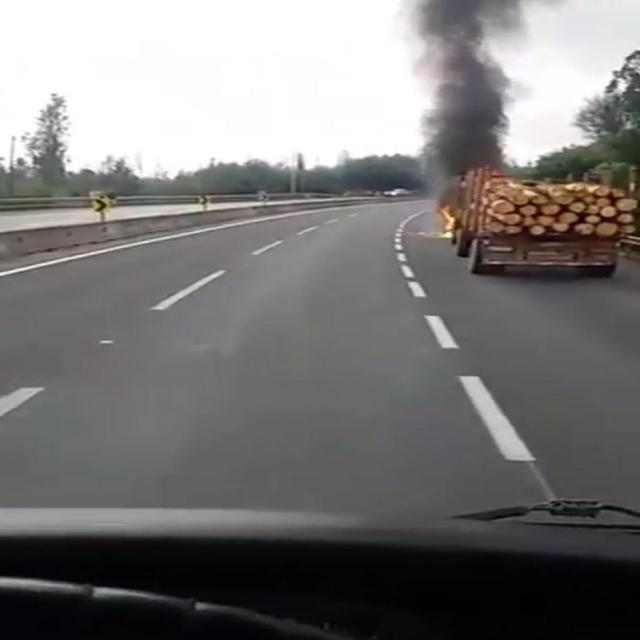Fire: (434, 208, 463, 237)
